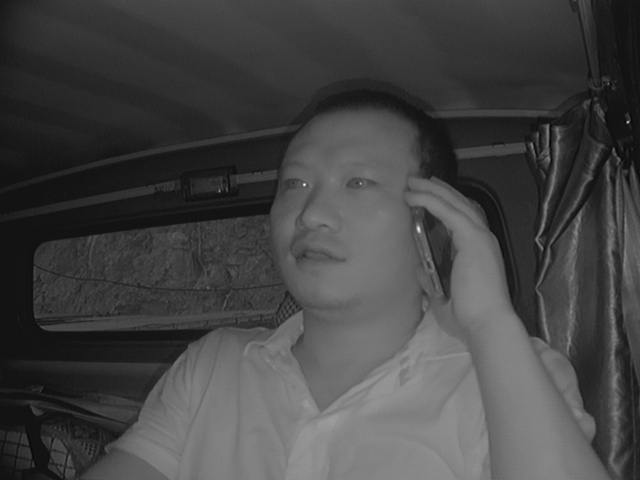hand: (398, 170, 504, 333)
